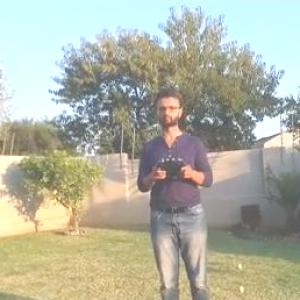follow: (127, 82, 216, 299)
